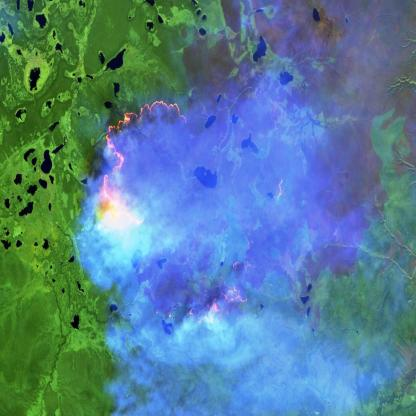fire: (89, 88, 287, 348)
